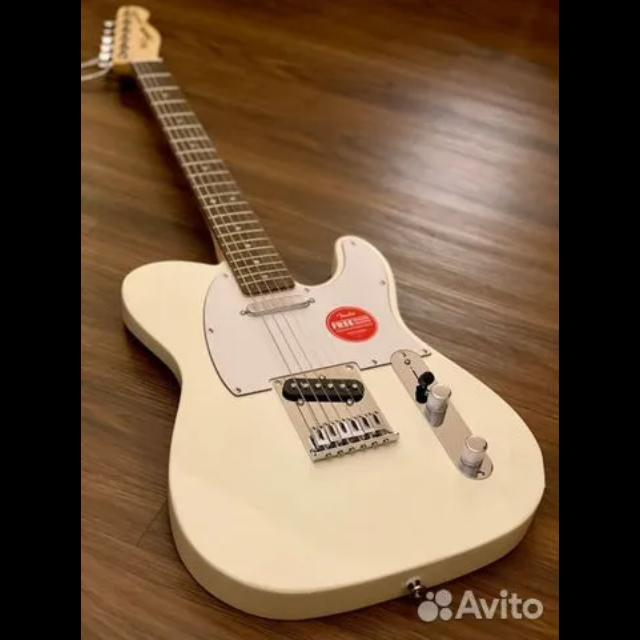Electric-Guitar: (100, 7, 546, 621)
